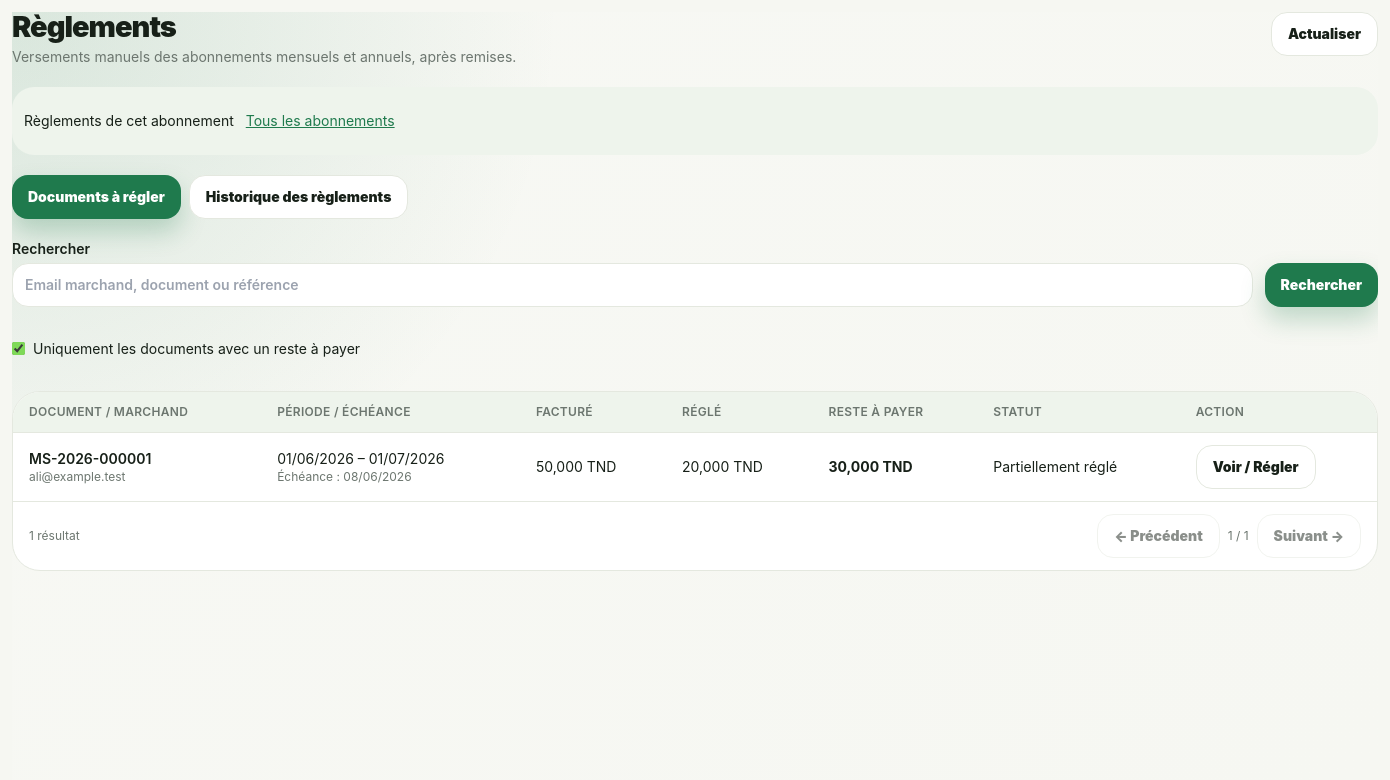
Test: SubscriptionPaymentsManager › shows paid and outstanding amounts with a subscription filter
This screenshot has width=1390, height=780.
Expected: the text "Partiellement réglé" is shown, [977, 432, 1180, 501]
Expected: the text "20,000 TND" is shown, [666, 432, 812, 501]
Click the button "Historique des règlements".
click(299, 197)  # box [189, 175, 408, 219]
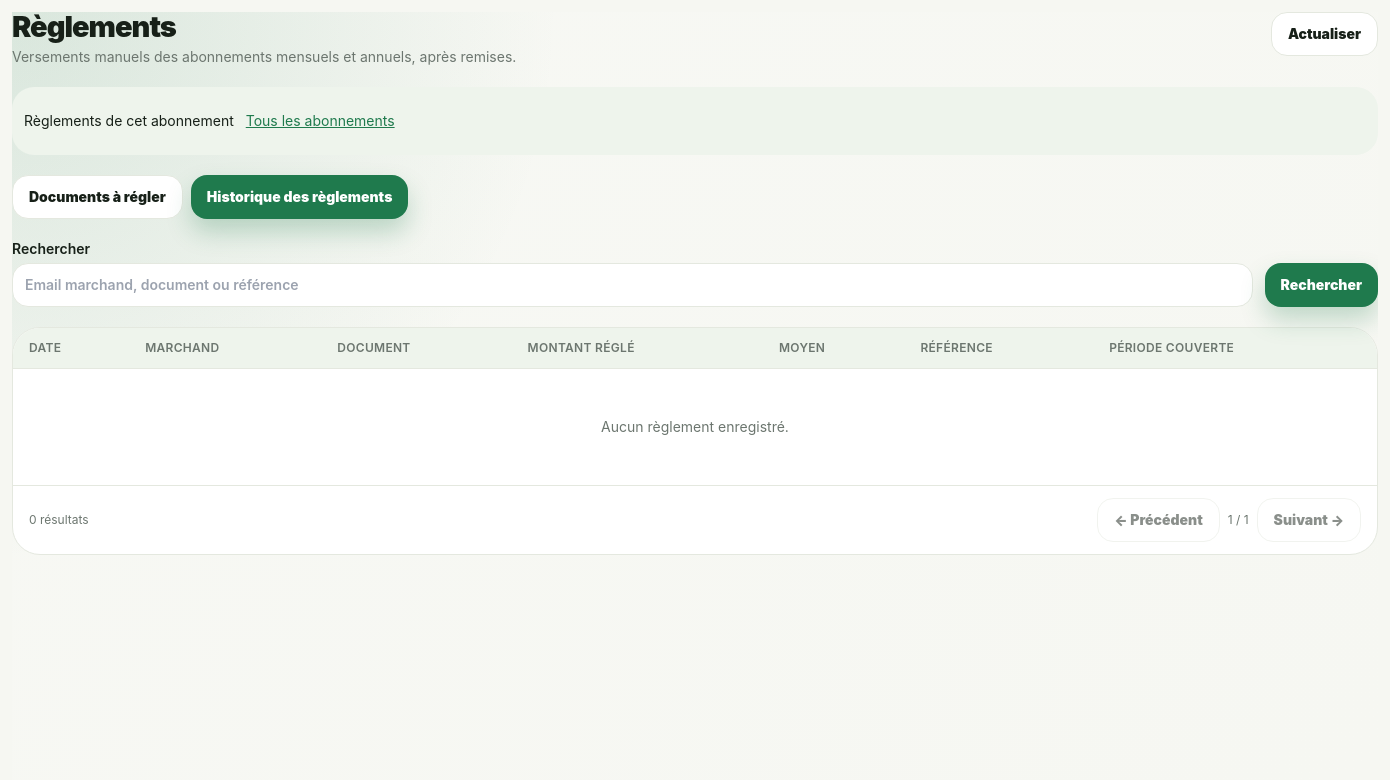
Now the text "Aucun règlement enregistré." is shown, box [601, 418, 789, 435]
